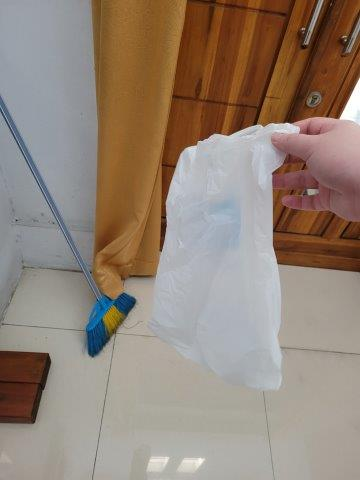plastik: (150, 120, 300, 388)
